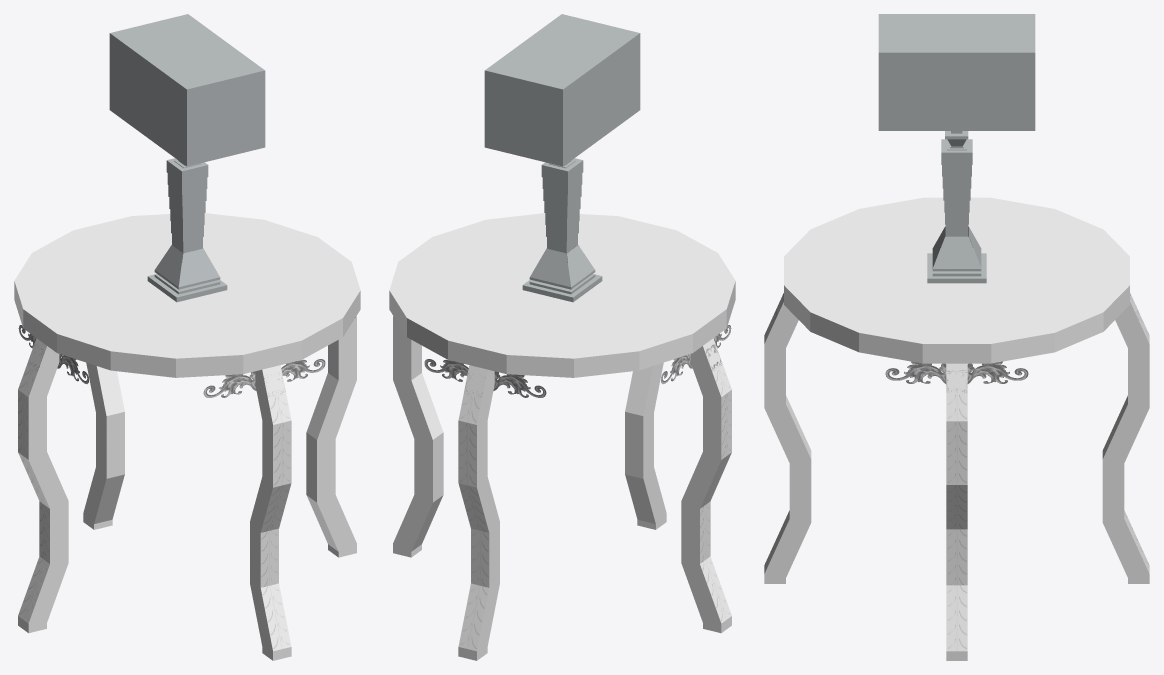
Rendered from white_table.obj.
The picture shows the model from 3 angles, left to right: view 1: azimuth 30°, elevation 25°; view 2: azimuth 150°, elevation 25°; view 3: azimuth 270°, elevation 25°; orthographic projection.
Visible parts, largest first — view 1: cube.030, cube.032, cube.028, hexadecagon.004, hexadecagon.011, hexadecagon.005, hexadecagon.007, hexadecagon.014, hexadecagon.010, hexadecagon.001, hexadecagon.006, hexadecagon.012 (+32 smaller); view 2: cube.029, cube.032, cube.028, hexadecagon.003, hexadecagon.000, hexadecagon.014, hexadecagon.001, hexadecagon.009, hexadecagon.006, hexadecagon.010, hexadecagon.002, hexadecagon.004 (+32 smaller); view 3: cube.031, cube.028, hexadecagon.013, hexadecagon.000, hexadecagon.004, hexadecagon.003, hexadecagon, hexadecagon.008, hexadecagon.014, hexadecagon.007, hexadecagon.001, hexadecagon.012 (+26 smaller).
Part boxes in pixels (left/top/right/bottom): cube.030: left=185, top=69, right=265, bottom=166; cube.032: left=109, top=33, right=189, bottom=165; cube.028: left=113, top=15, right=260, bottom=87; hexadecagon.004: left=110, top=292, right=217, bottom=377; hexadecagon.011: left=57, top=288, right=177, bottom=370; hexadecagon.005: left=173, top=298, right=243, bottom=377; hexadecagon.007: left=226, top=295, right=342, bottom=359; hexadecagon.014: left=205, top=220, right=317, bottom=276; hexadecagon.010: left=23, top=280, right=143, bottom=352; hexadecagon.001: left=73, top=216, right=170, bottom=291; hexadecagon.006: left=224, top=305, right=301, bottom=373; hexadecagon.012: left=193, top=262, right=360, bottom=299; cube.029: left=484, top=69, right=564, bottom=166; cube.032: left=560, top=32, right=640, bottom=165; cube.028: left=489, top=15, right=636, bottom=87; hexadecagon.003: left=544, top=285, right=639, bottom=377; hexadecagon.000: left=407, top=296, right=580, bottom=359; hexadecagon.014: left=389, top=262, right=555, bottom=299; hexadecagon.001: left=448, top=292, right=590, bottom=373; hexadecagon.009: left=601, top=288, right=692, bottom=370; hexadecagon.006: left=578, top=216, right=676, bottom=287; hexadecagon.010: left=609, top=284, right=726, bottom=352; hexadecagon.002: left=506, top=323, right=579, bottom=377; hexadecagon.004: left=604, top=253, right=735, bottom=293; cube.031: left=878, top=51, right=1035, bottom=130; cube.028: left=881, top=15, right=1032, bottom=51; hexadecagon.013: left=922, top=287, right=991, bottom=363; hexadecagon.000: left=946, top=268, right=1129, bottom=331; hexadecagon.004: left=810, top=209, right=935, bottom=278; hexadecagon.003: left=978, top=209, right=1103, bottom=278; hexadecagon: left=949, top=286, right=1103, bottom=352; hexadecagon.008: left=810, top=288, right=956, bottom=352; hexadecagon.014: left=952, top=293, right=1054, bottom=363; hexadecagon.007: left=784, top=271, right=960, bottom=331; hexadecagon.001: left=959, top=256, right=1129, bottom=285; hexadecagon.012: left=859, top=297, right=965, bottom=363.
Size of the model in its own units: 1.11 by 1.74 by 1.11.
